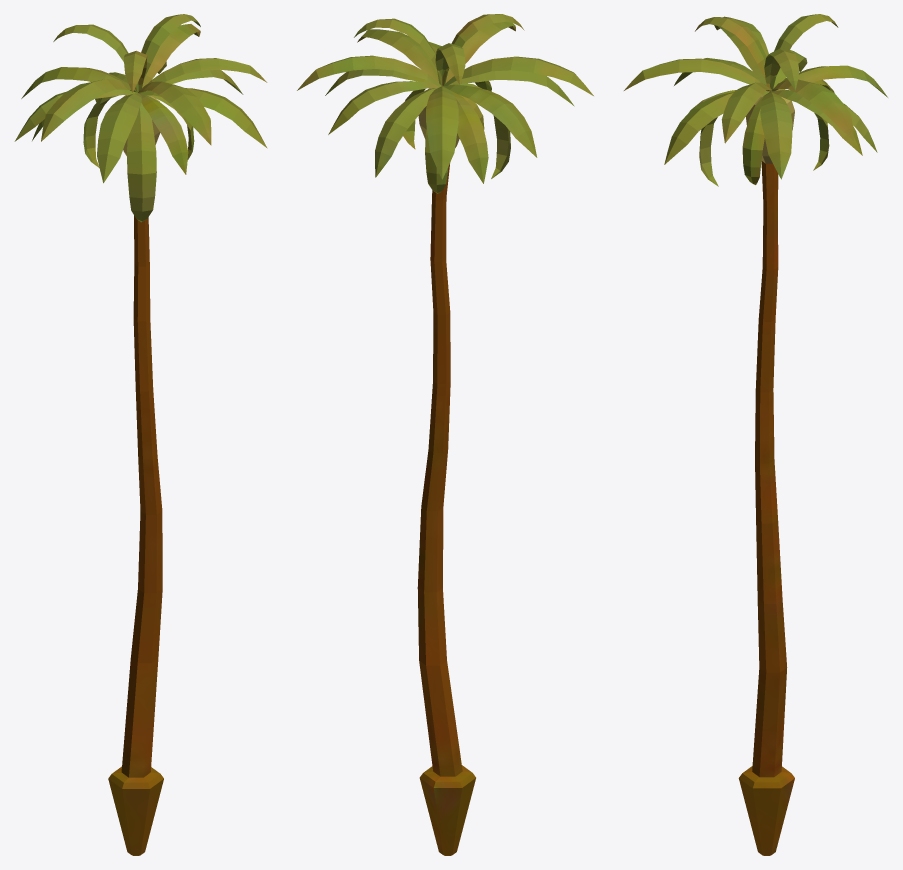
File: mega-pack-cylinder-010.glb
The picture shows the model from 3 angles, left to right: view 1: azimuth 30°, elevation 25°; view 2: azimuth 150°, elevation 25°; view 3: azimuth 270°, elevation 25°; orthographic projection.
Visible parts, largest first — view 1: Cylinder.010; view 2: Cylinder.010; view 3: Cylinder.010.
Boxes of the visible parts, bbox=[...] form: Cylinder.010: bbox=[14, 14, 267, 855]; Cylinder.010: bbox=[297, 14, 593, 855]; Cylinder.010: bbox=[624, 14, 887, 855].
Size of the model in its own units: 1.77 by 5.91 by 1.72.
1 material, 1 textured.
